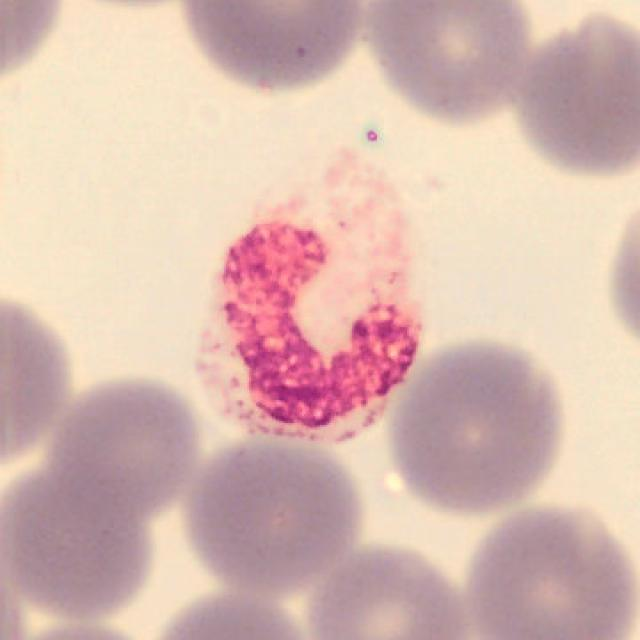Bastonete: (192, 148, 427, 448)
